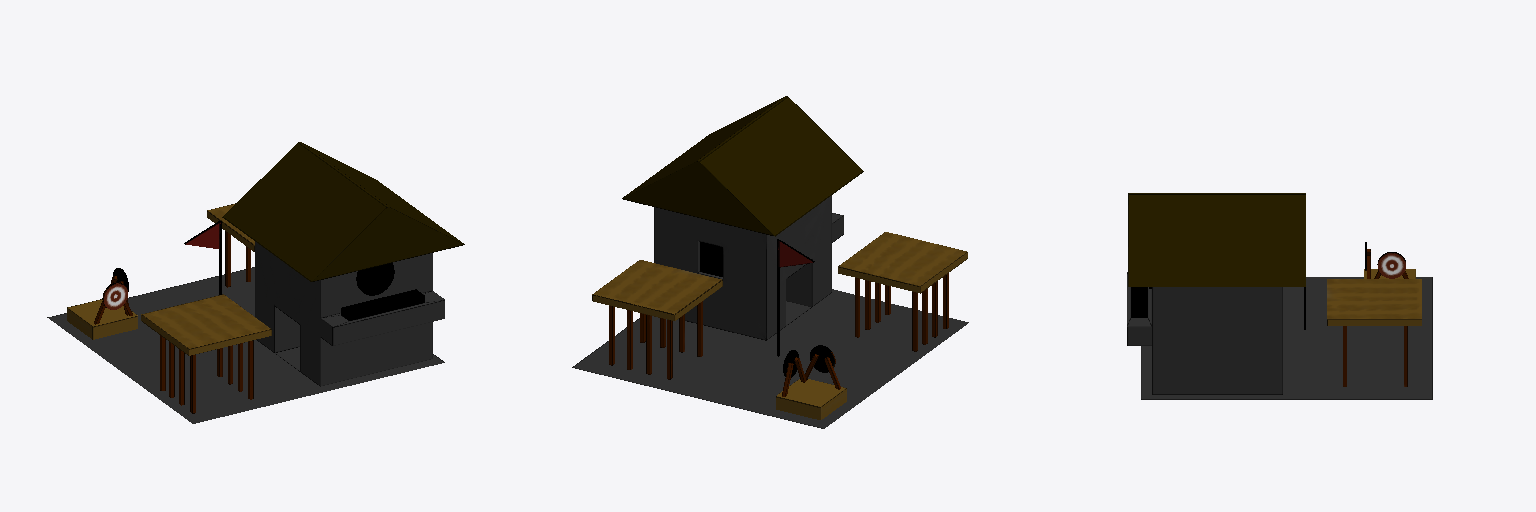
3 views of the same model, side by side, from view 1: azimuth 30°, elevation 25°; view 2: azimuth 150°, elevation 25°; view 3: azimuth 270°, elevation 25° (orthographic).
Parts seen in each view (by area): view 1: Cube.001_Cube.002; view 2: Cube.001_Cube.002; view 3: Cube.001_Cube.002.
Boxes of the visible parts, x1,y1,x2,y2 form: Cube.001_Cube.002: [47, 142, 464, 423]; Cube.001_Cube.002: [572, 96, 968, 428]; Cube.001_Cube.002: [1127, 193, 1432, 399].
Bounding box in the file's own units: 2.77 × 1.79 × 2.74.
1 materials, 1 textured.